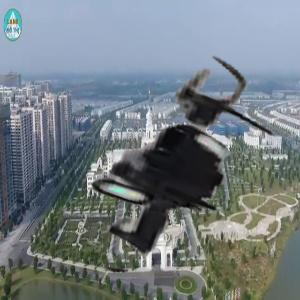drone: (26, 32, 292, 298)
